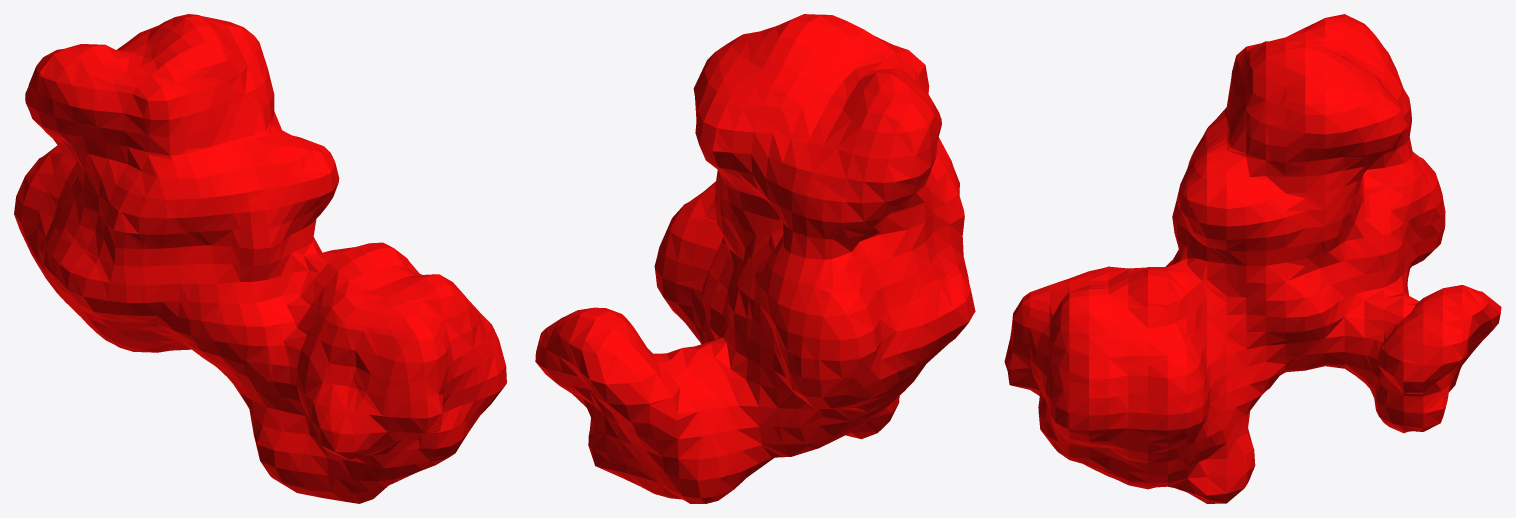
File: proV_coarse.dae
3 renders of one model, left to right at view 1: azimuth 30°, elevation 25°; view 2: azimuth 150°, elevation 25°; view 3: azimuth 270°, elevation 25°, orthographic. The views are drawn at different scales.
Parts seen in each view (by area): view 1: proV; view 2: proV; view 3: proV.
Boxes of the visible parts, <box> form: proV: <box>14,14,506,503</box>; proV: <box>535,14,975,503</box>; proV: <box>1004,14,1501,503</box>.
Size of the model in its own units: 57.36 by 73.47 by 80.2.
